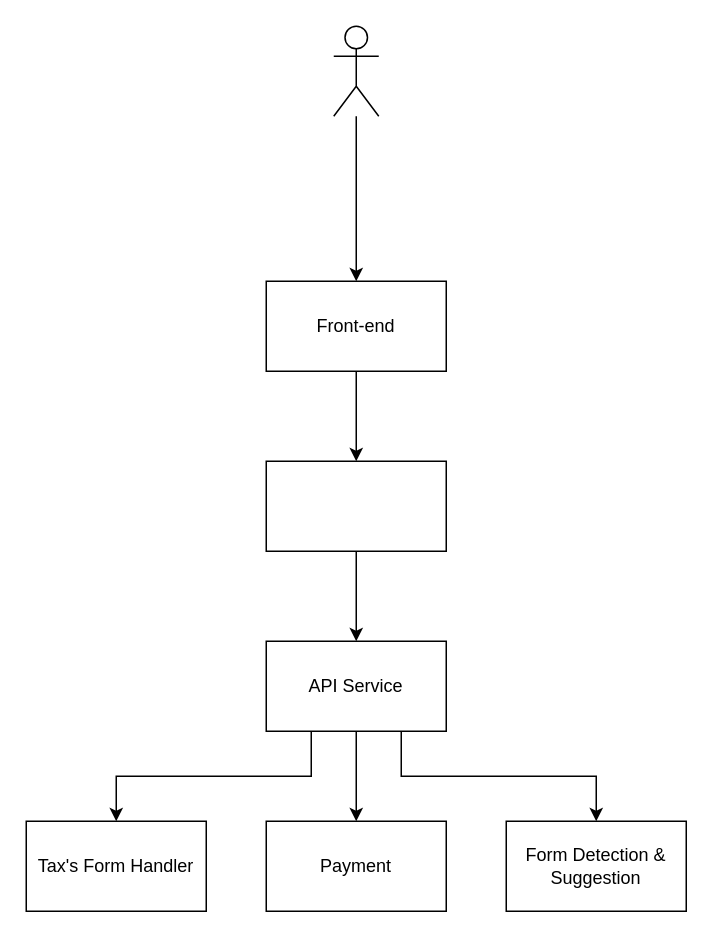
Image size: 713x938. Some labels were removed from this diagram. Each missing label, with the centre of its shape:
Infra: the point at 355,505
User: the point at 355,70
